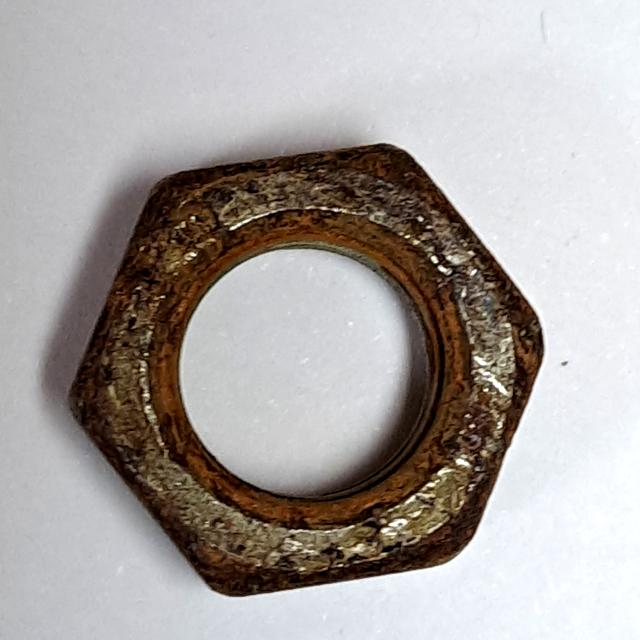Rust: (55, 128, 556, 617)
